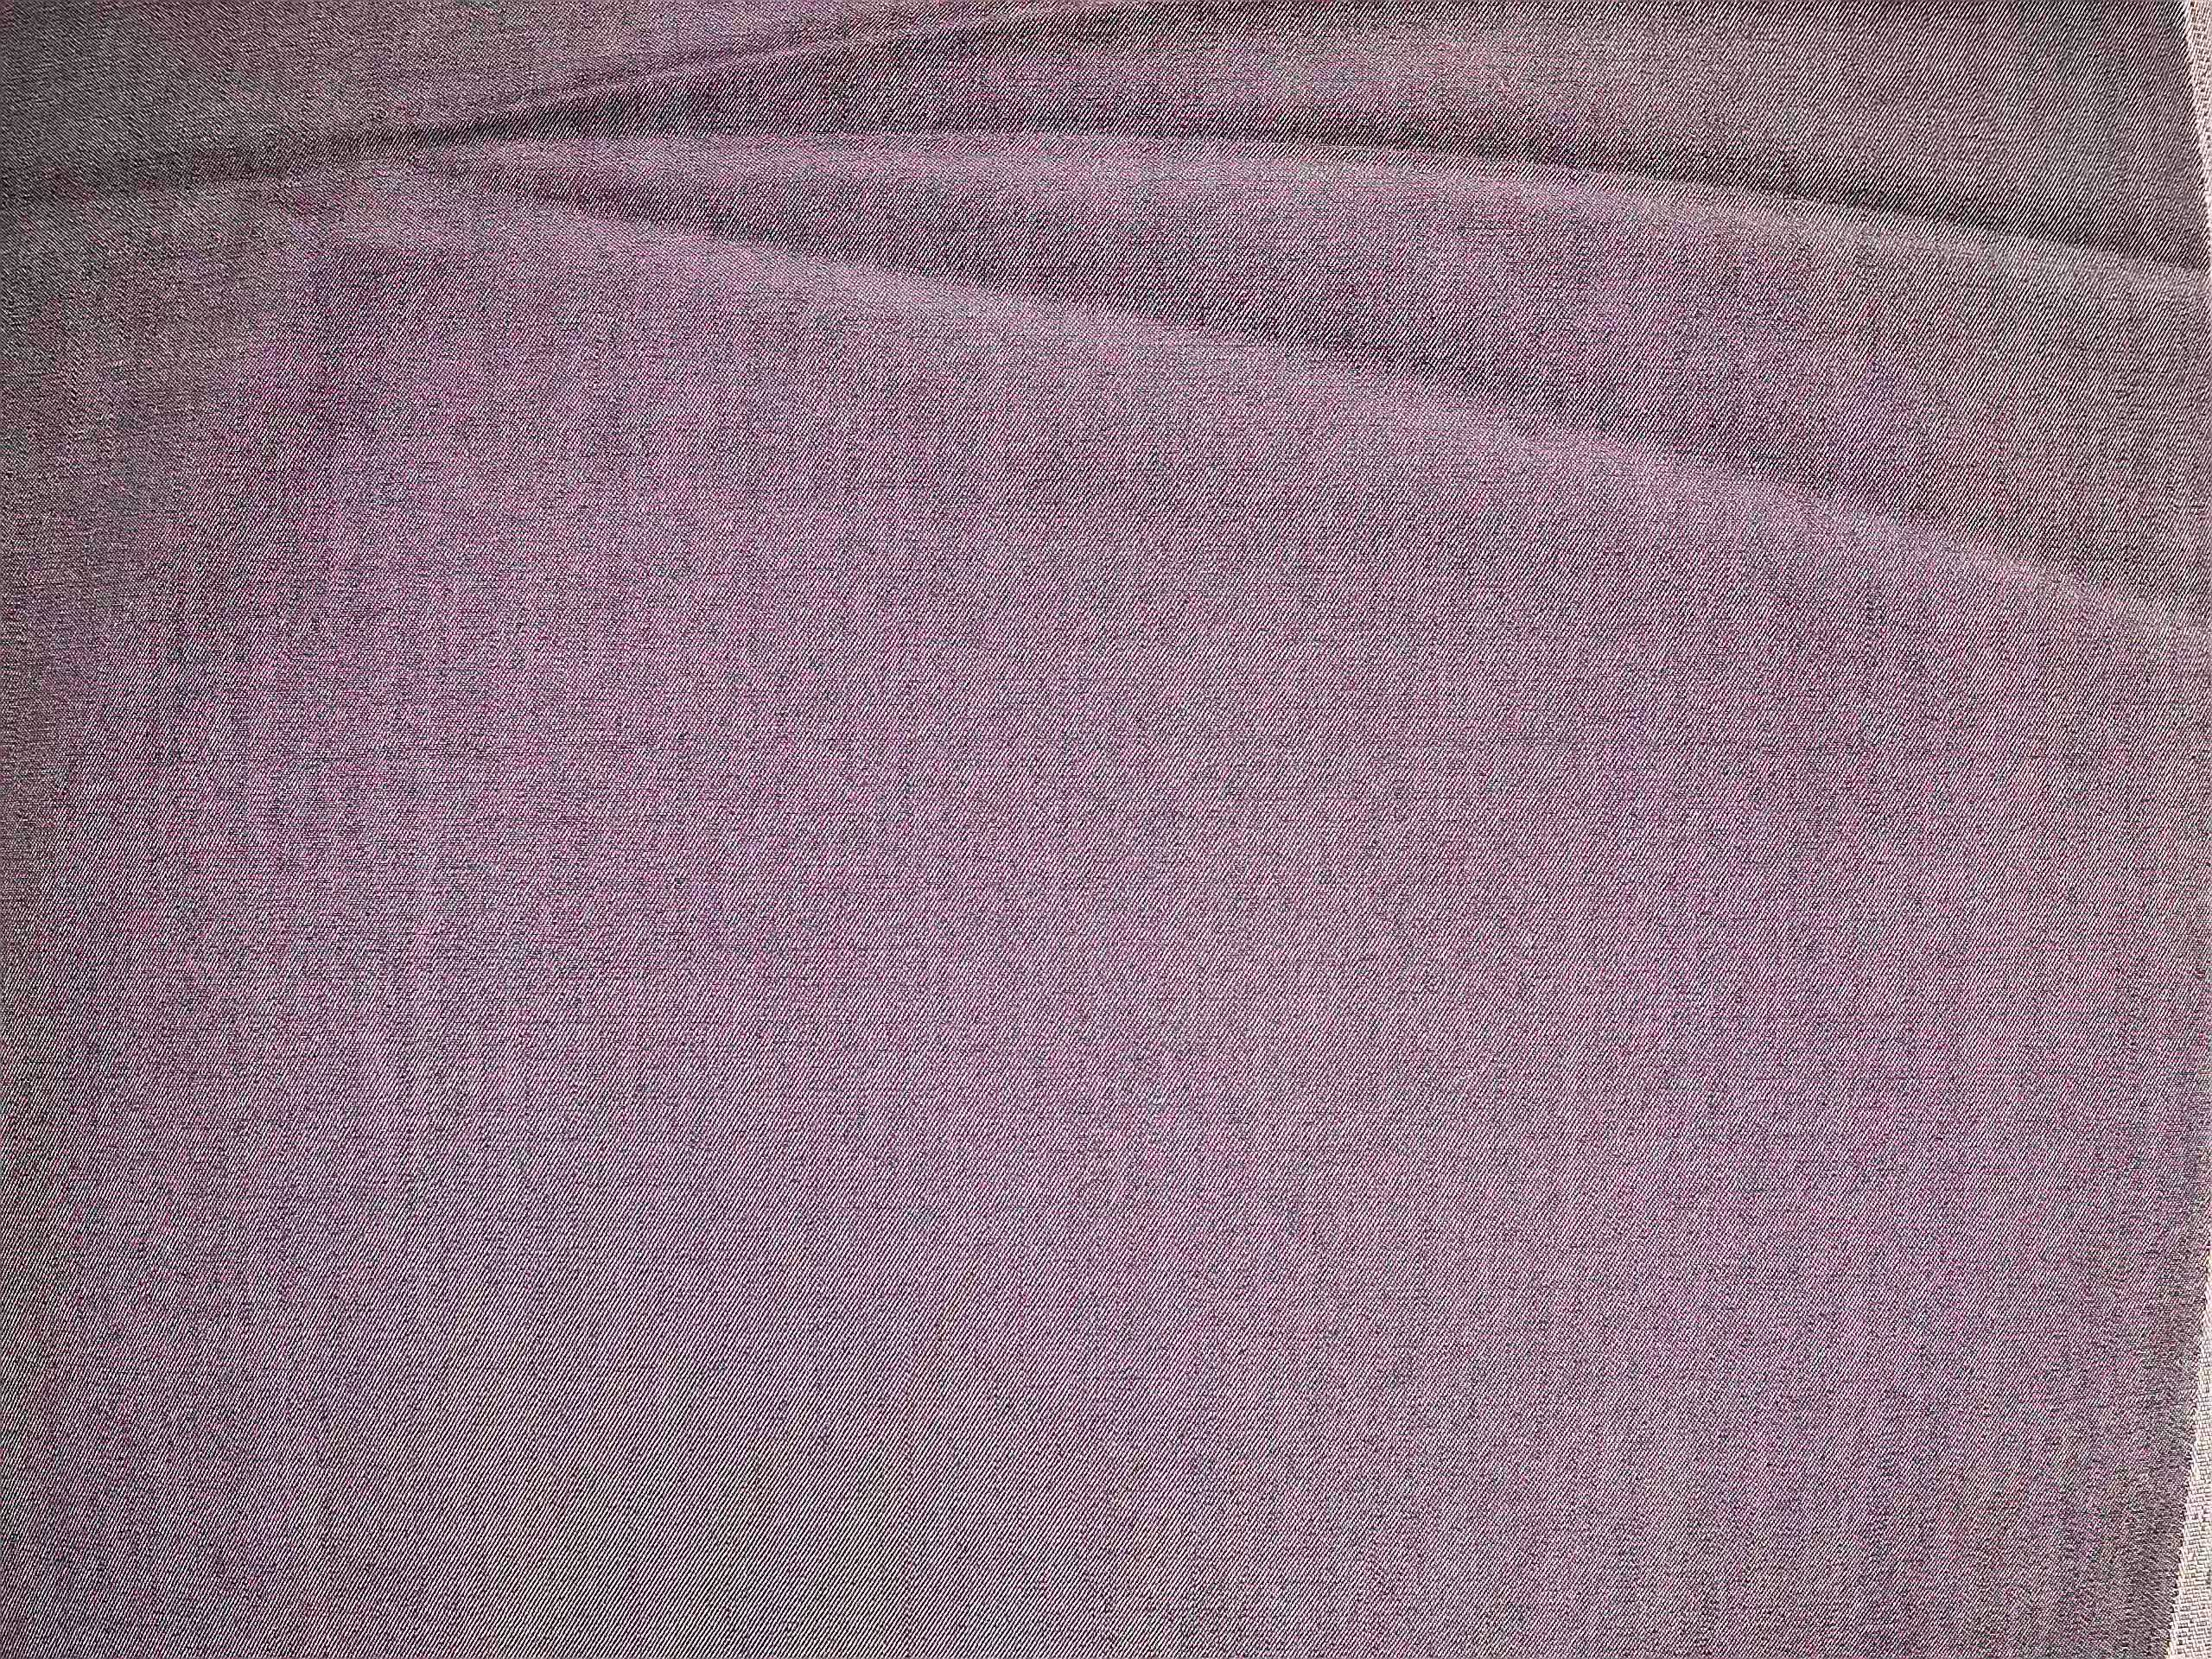thin-spinning: (949, 704, 1991, 786)
